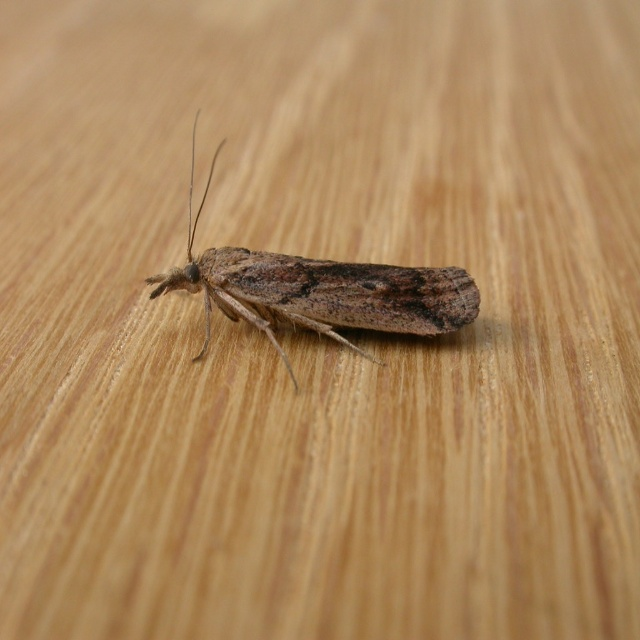Moths and butterflies: (145, 103, 485, 395)
